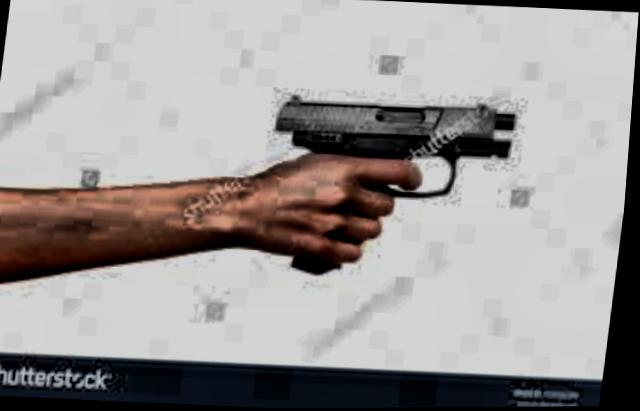pistol: (254, 83, 520, 290)
